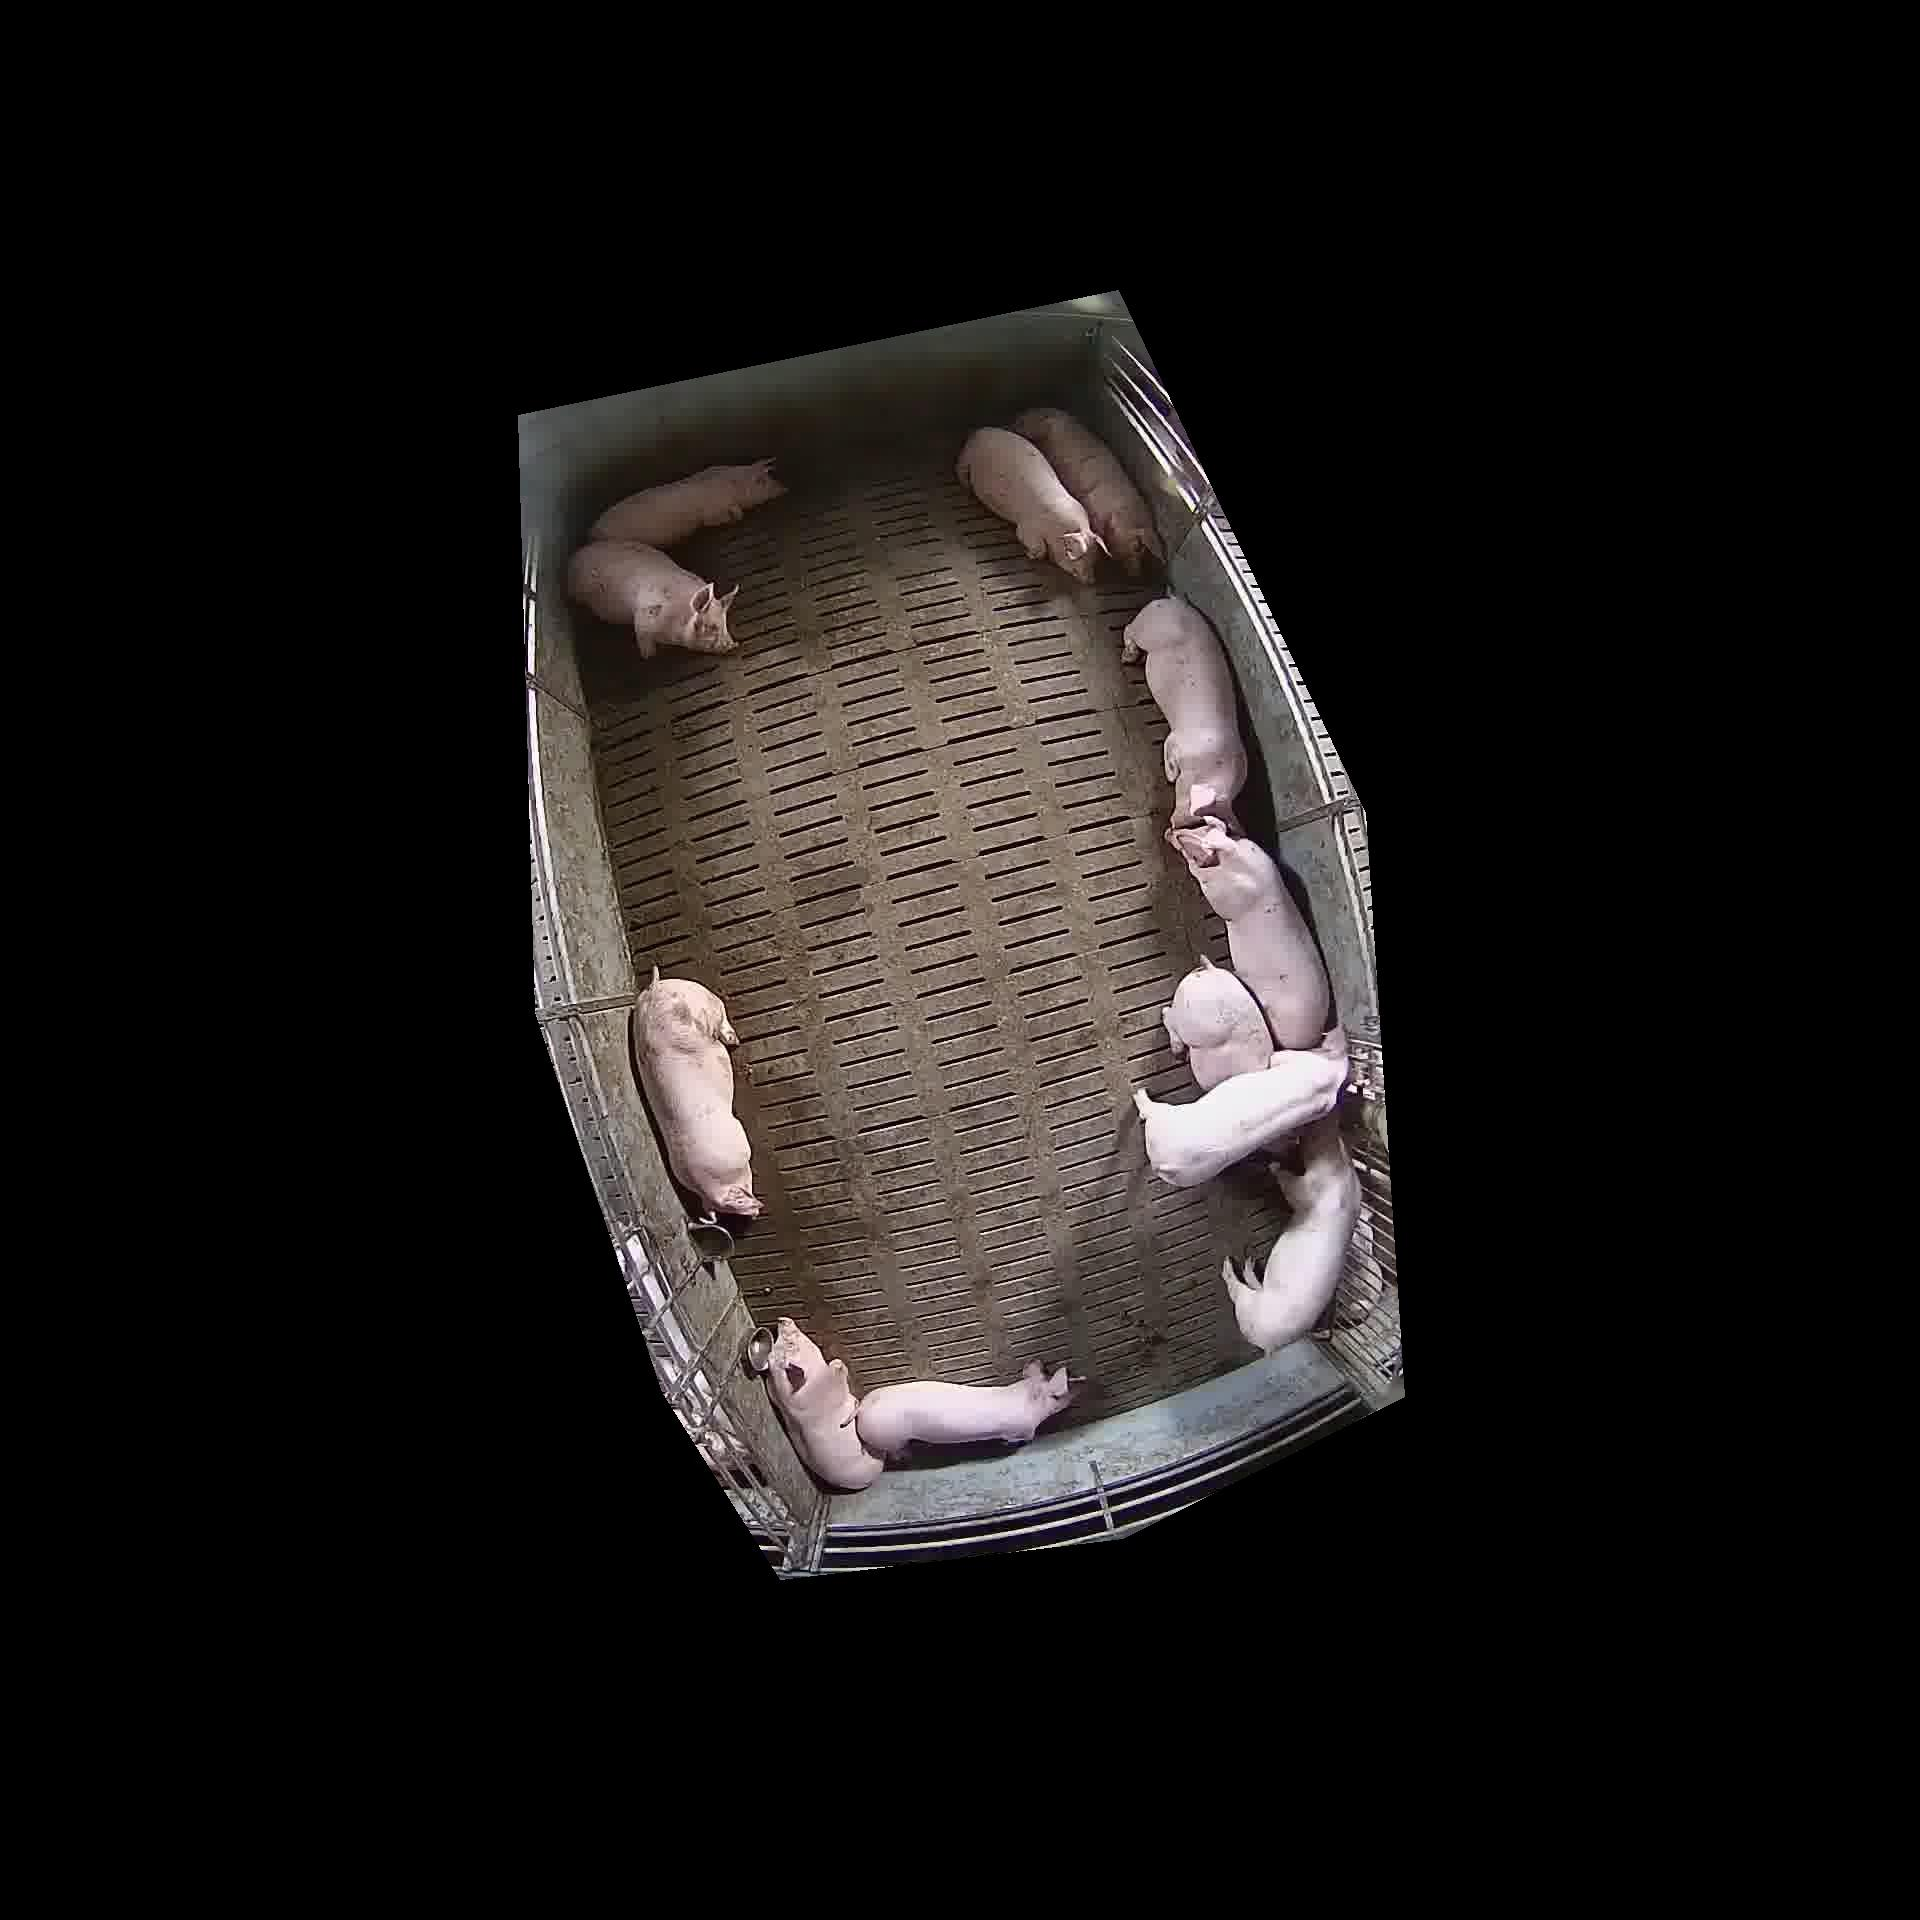pig: (767, 1317, 1073, 1489), (1167, 818, 1329, 1050), (1136, 1029, 1349, 1185), (1224, 1113, 1361, 1350), (635, 976, 760, 1217), (1124, 596, 1247, 826), (1015, 408, 1162, 573), (956, 427, 1104, 580), (856, 1363, 1073, 1456), (767, 1317, 883, 1489), (568, 542, 735, 658), (591, 459, 784, 547), (1162, 958, 1273, 1090)
